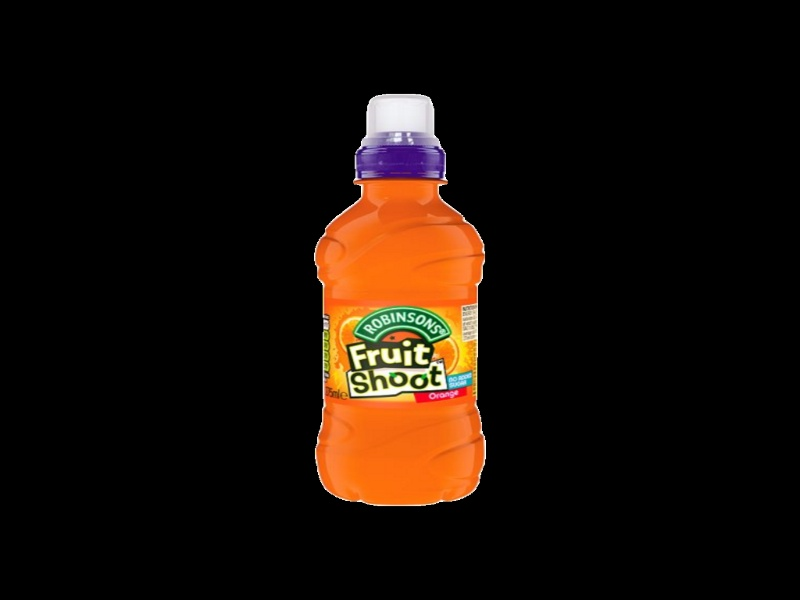Jugo de naranja: (313, 95, 487, 507)
